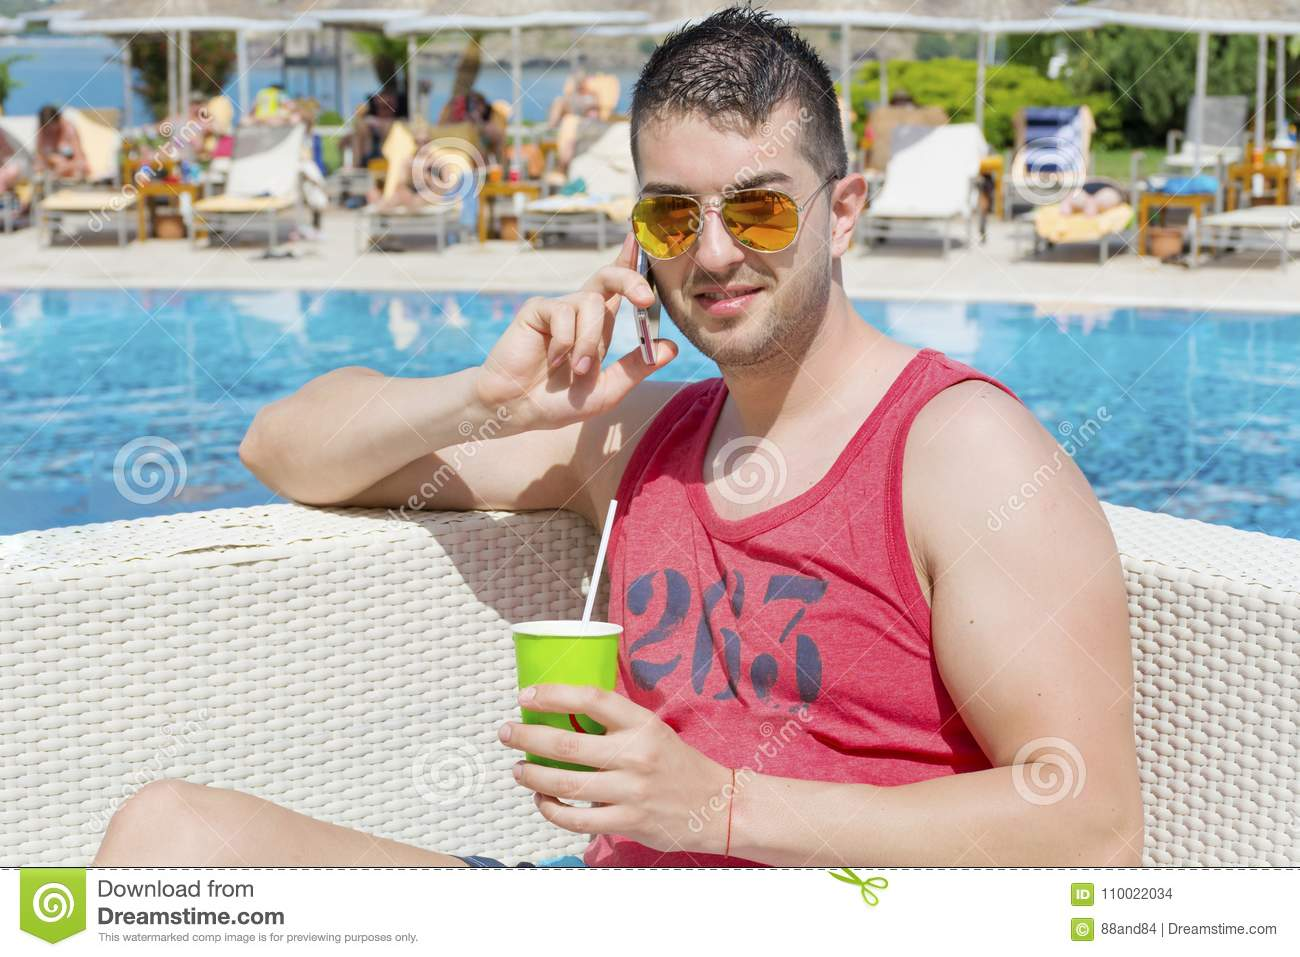phone: (629, 224, 669, 375)
talk: (472, 155, 824, 441)
